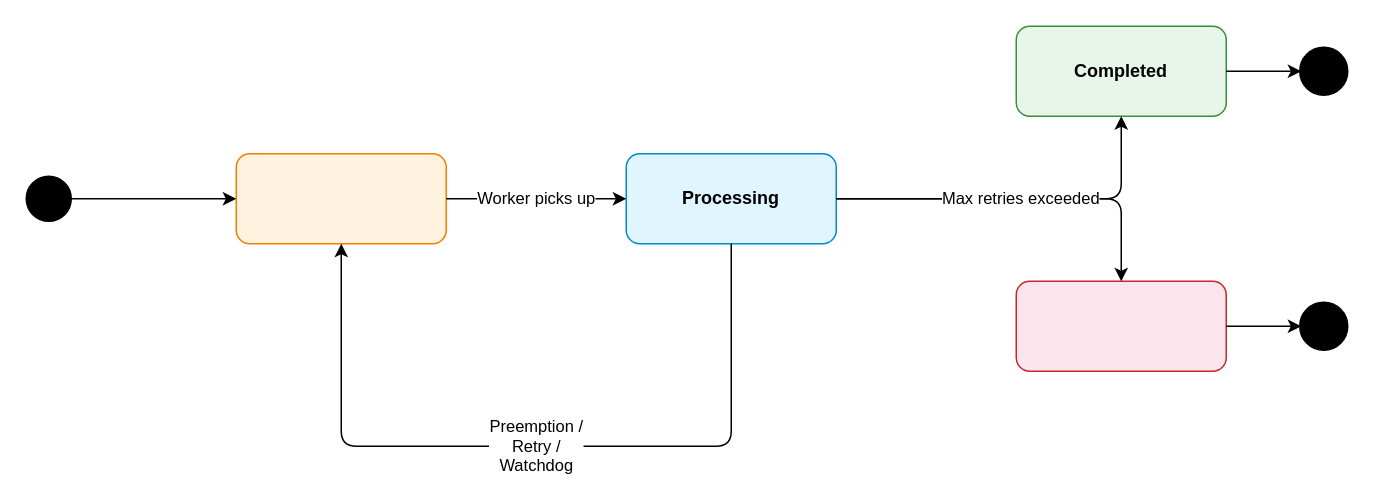
The diagram is 1374 pixels wide and 503 high, and some of its shapes have lost their labels. The shapes that lost their labels are listed below. From the top down, each one's centre as x and y in pixels, then its label:
point 340,198: Pending
point 1120,325: Failed
